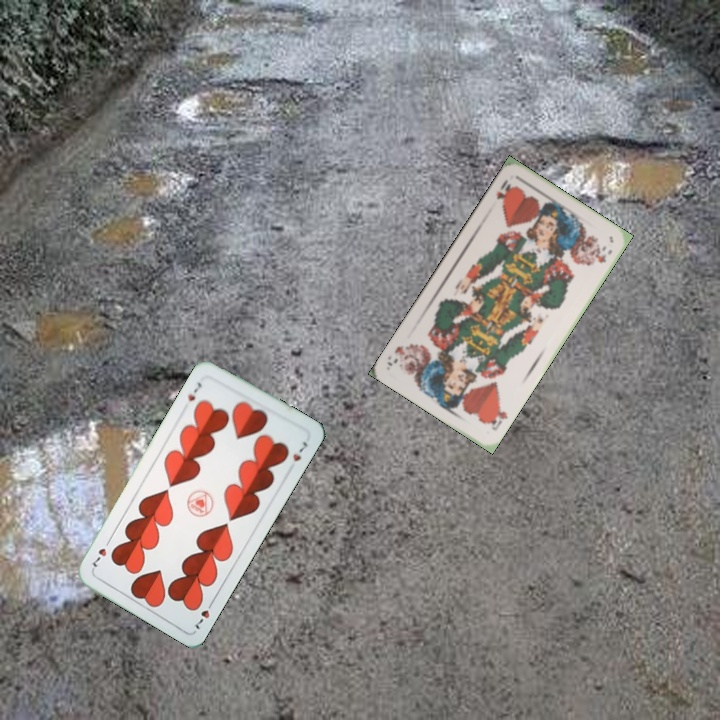H7: (191, 596, 217, 632), (184, 378, 207, 404)
HO: (484, 401, 510, 433), (492, 175, 516, 207)
